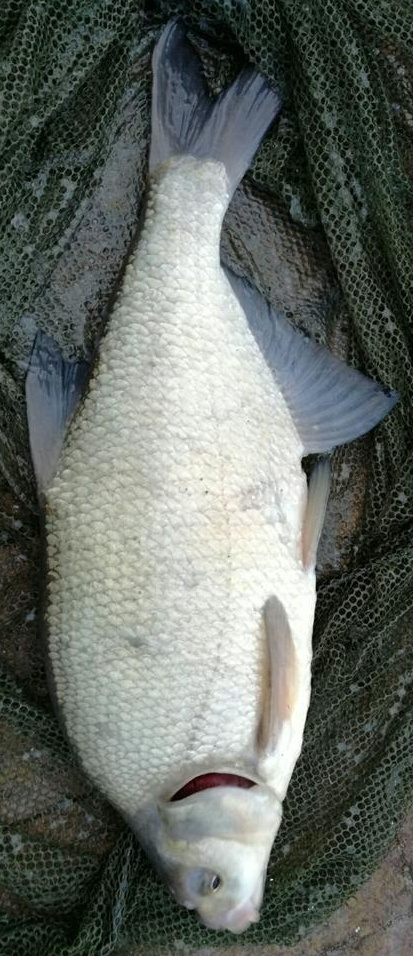Abramis brama: (20, 20, 393, 936)
